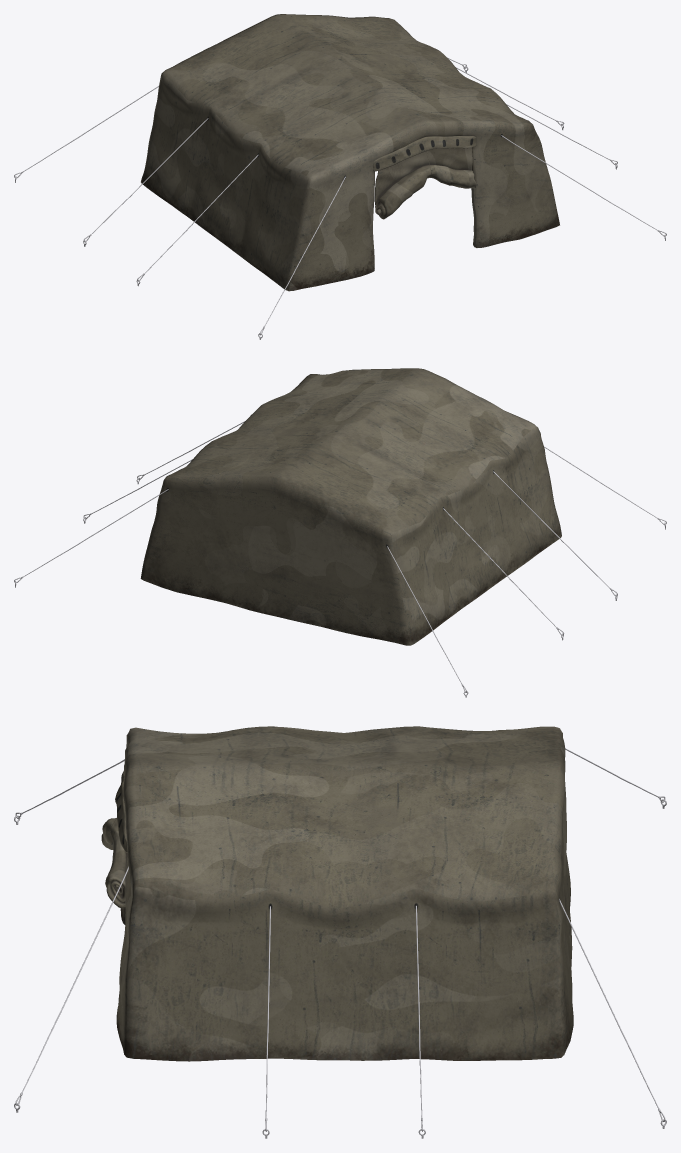
Rendered from army_tent.glb.
The picture shows the model from 3 angles, top to bottom: view 1: azimuth 30°, elevation 25°; view 2: azimuth 150°, elevation 25°; view 3: azimuth 270°, elevation 25°; orthographic projection. The views are drawn at different scales.
Visible parts, largest first — view 1: SM_FullTent; view 2: SM_FullTent; view 3: SM_FullTent.
Part boxes in pixels (<box>): SM_FullTent: <box>14,14,666,339</box>; SM_FullTent: <box>14,368,666,697</box>; SM_FullTent: <box>14,726,666,1138</box>.
Size of the model in its own units: 11.7 by 3.26 by 9.45.
Materials: 4 (4 with a texture image).
